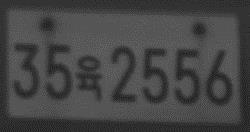2: (110, 44, 138, 104)
3: (13, 42, 40, 97)
5: (46, 43, 74, 100), (173, 48, 201, 104), (143, 47, 168, 103)
6: (205, 48, 233, 106)
육: (76, 54, 103, 102)
